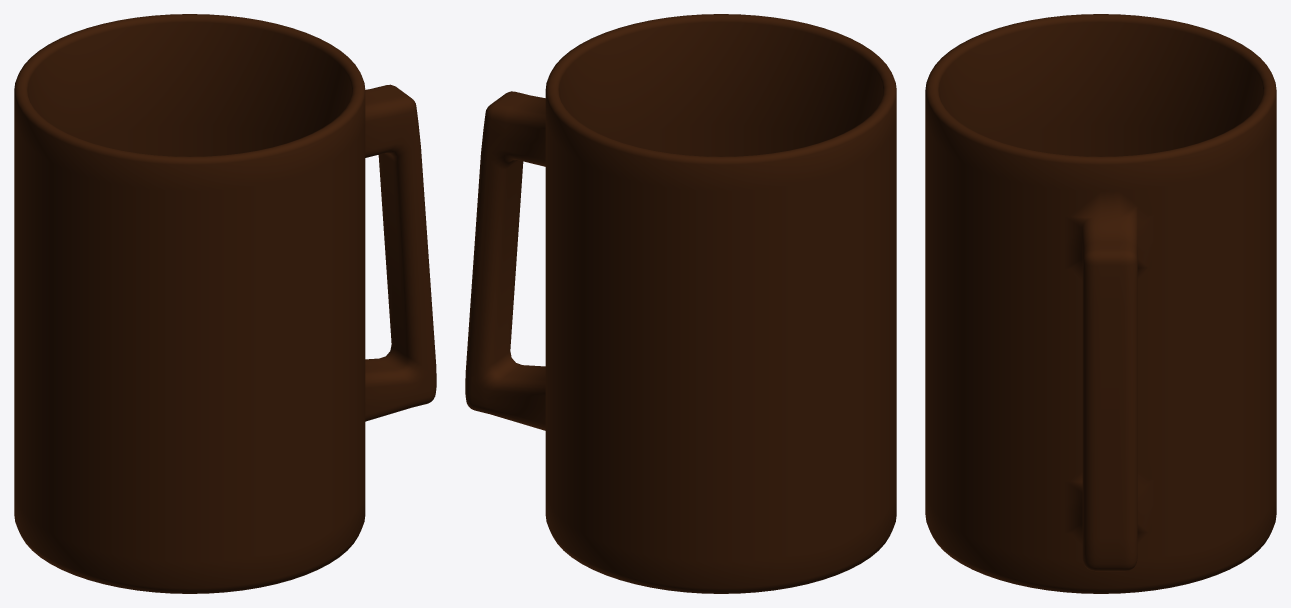
The model's file is TEST-CUP-GLTB-GLB.glb.
3 views of the same model, side by side, from view 1: azimuth 30°, elevation 25°; view 2: azimuth 150°, elevation 25°; view 3: azimuth 270°, elevation 25° (orthographic).
Visible parts, largest first — view 1: Cylinder; view 2: Cylinder; view 3: Cylinder.
Part boxes in pixels (<box>): Cylinder: <box>14,14,436,593</box>; Cylinder: <box>465,14,896,593</box>; Cylinder: <box>925,14,1276,593</box>.
Bounding box in the file's own units: 10.37 × 11 × 8.
